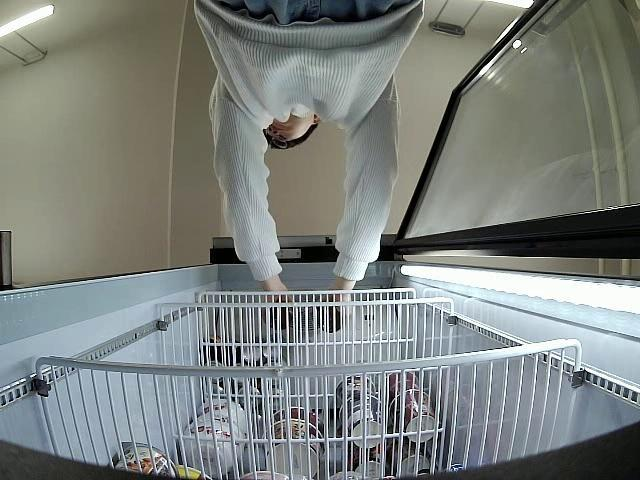19_17cha: (320, 305, 340, 334), (272, 304, 290, 328)
